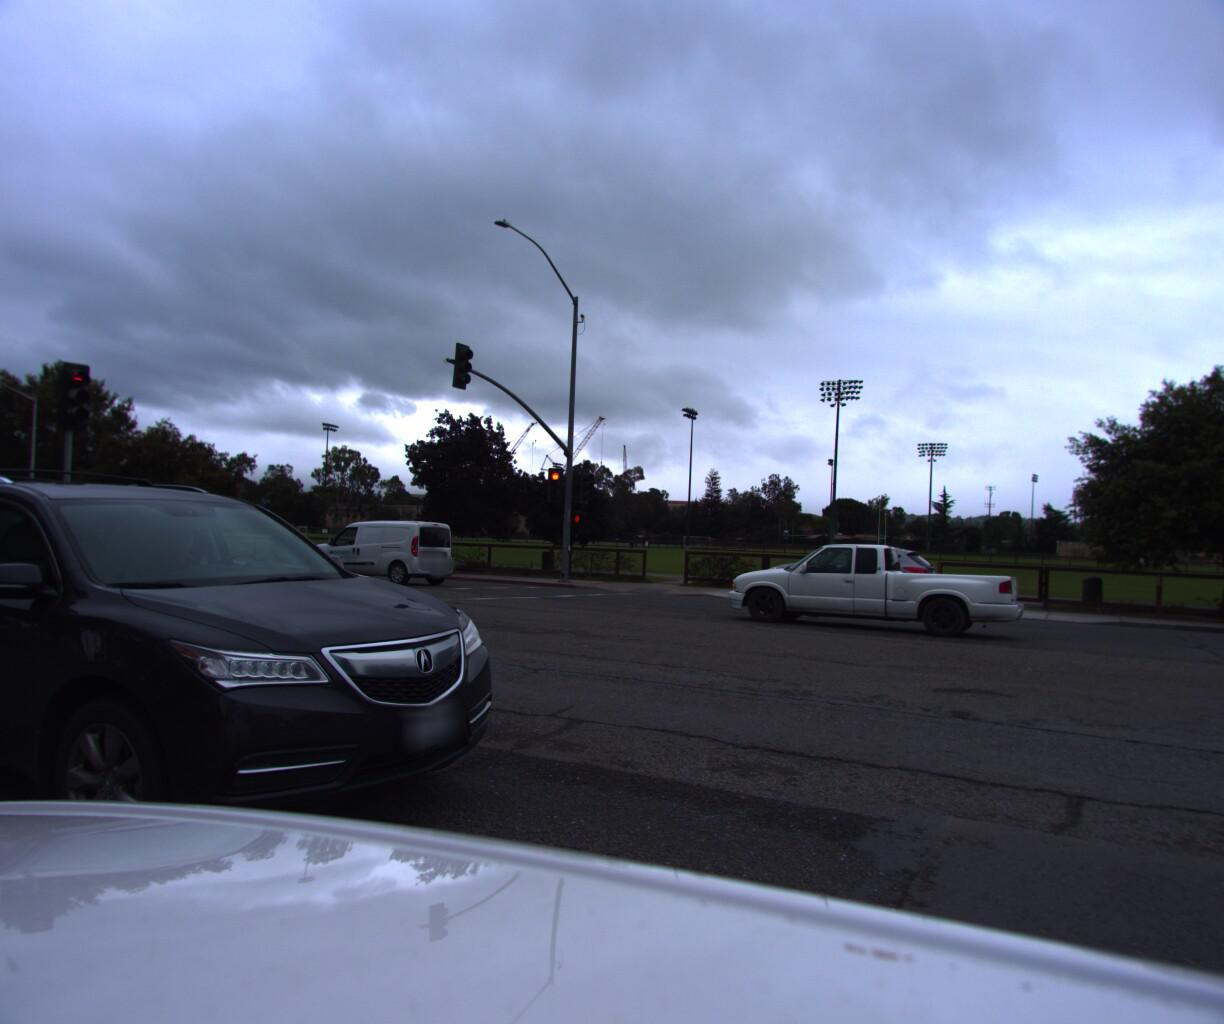car: (0, 446, 573, 964), (725, 535, 1035, 643), (0, 486, 133, 640), (750, 538, 936, 608), (291, 516, 460, 586)
